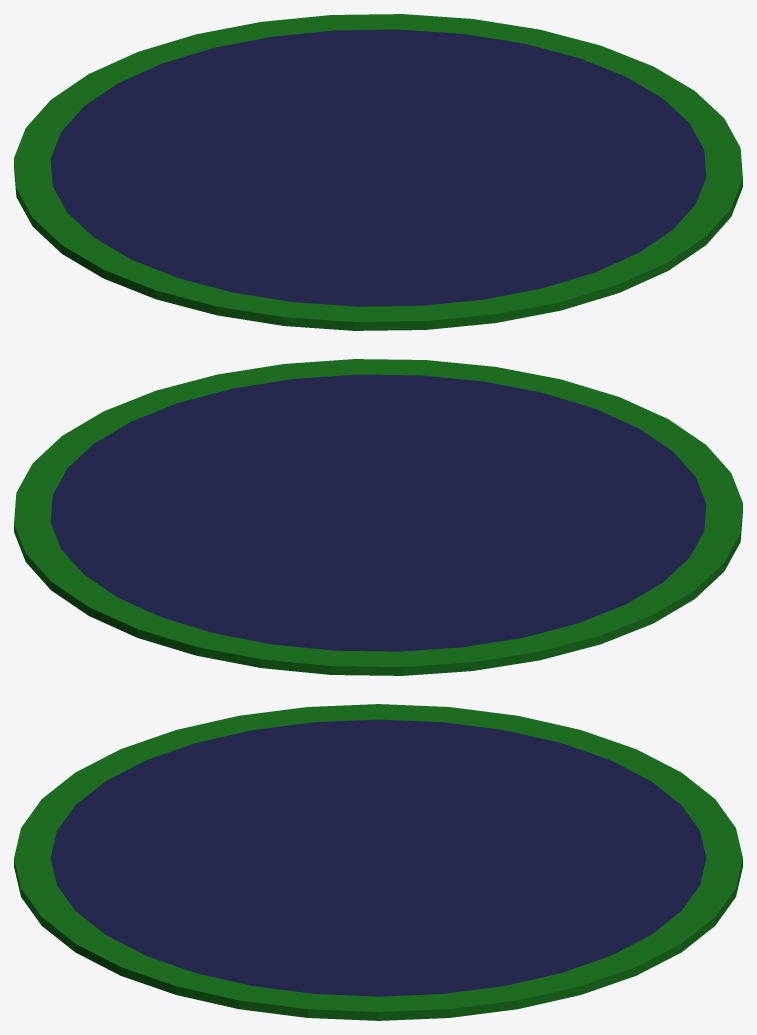
File: plataforma.fbx
3 renders of one model, top to bottom at view 1: azimuth 30°, elevation 25°; view 2: azimuth 150°, elevation 25°; view 3: azimuth 270°, elevation 25°, orthographic.
Visible parts, largest first — view 1: Plataforma; view 2: Plataforma; view 3: Plataforma.
Part boxes in pixels (x1=…): Plataforma: x1=14, y1=14, x2=742, y2=330; Plataforma: x1=14, y1=359, x2=742, y2=675; Plataforma: x1=14, y1=704, x2=742, y2=1020.
Size of the model in its own units: 3000 by 40 by 3000.
